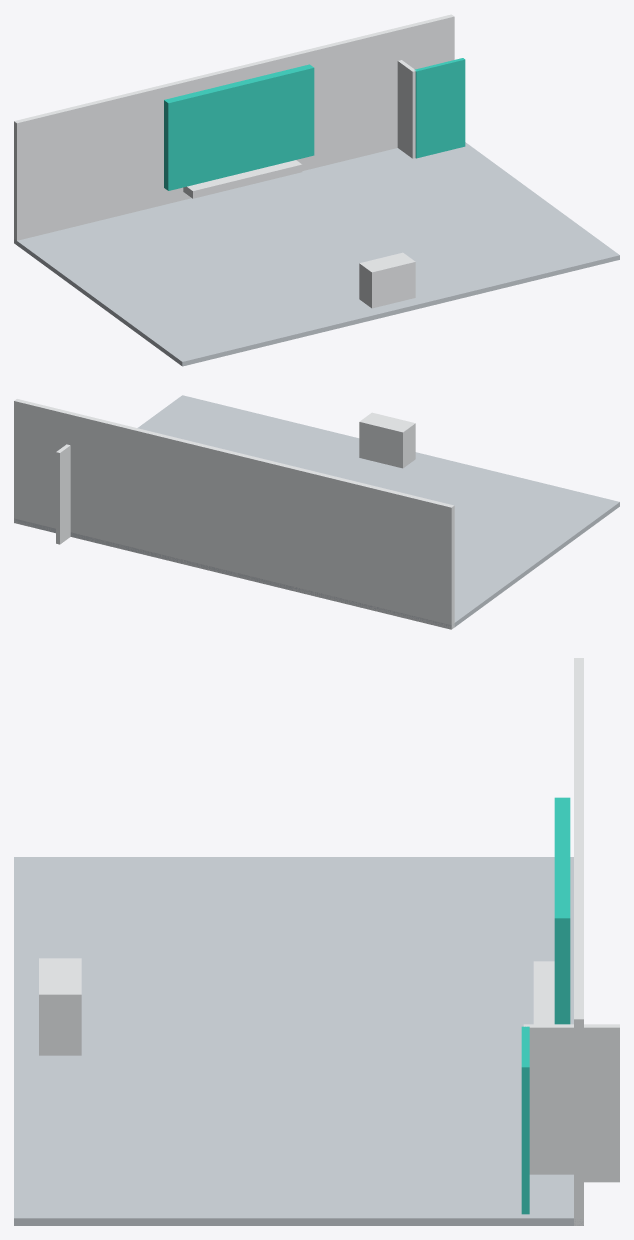
The picture shows the model from 3 angles, top to bottom: view 1: azimuth 30°, elevation 25°; view 2: azimuth 150°, elevation 25°; view 3: azimuth 270°, elevation 25°; orthographic projection. The views are drawn at different scales.
Parts seen in each view (by area): view 1: Exhibition Booth Concept; view 2: Exhibition Booth Concept; view 3: Exhibition Booth Concept.
Part boxes in pixels (x1=…): Exhibition Booth Concept: x1=14, y1=14, x2=619, y2=366; Exhibition Booth Concept: x1=14, y1=395, x2=619, y2=629; Exhibition Booth Concept: x1=14, y1=658, x2=619, y2=1225.
Bounding box in the file's own units: 12 × 3.2 × 8.51.
